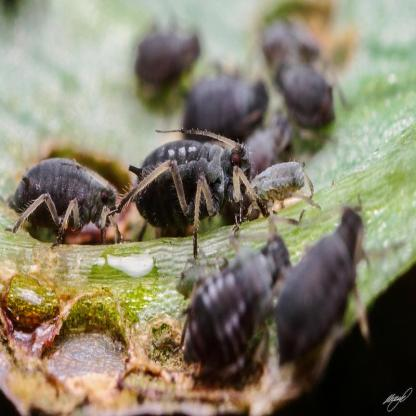aphid: (179, 233, 295, 381), (124, 123, 250, 249), (288, 200, 360, 379), (0, 150, 123, 249), (268, 24, 338, 130), (175, 66, 270, 139), (129, 6, 200, 94), (250, 141, 316, 223)
